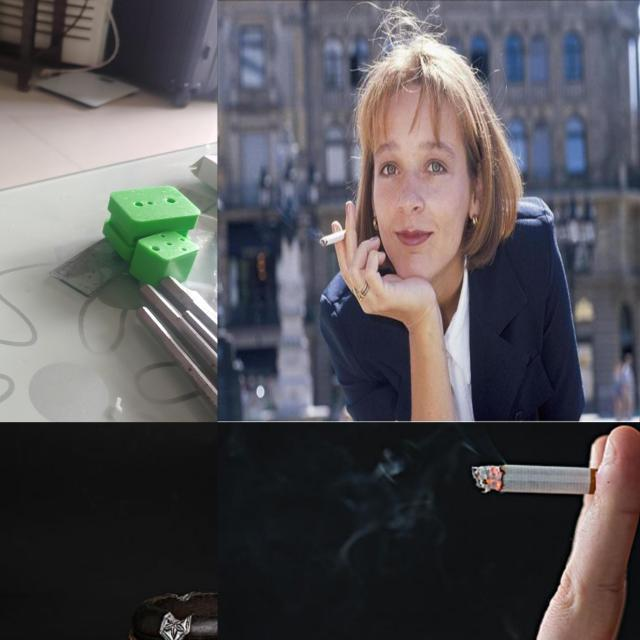smoking: (470, 462, 640, 499), (318, 230, 346, 248)
